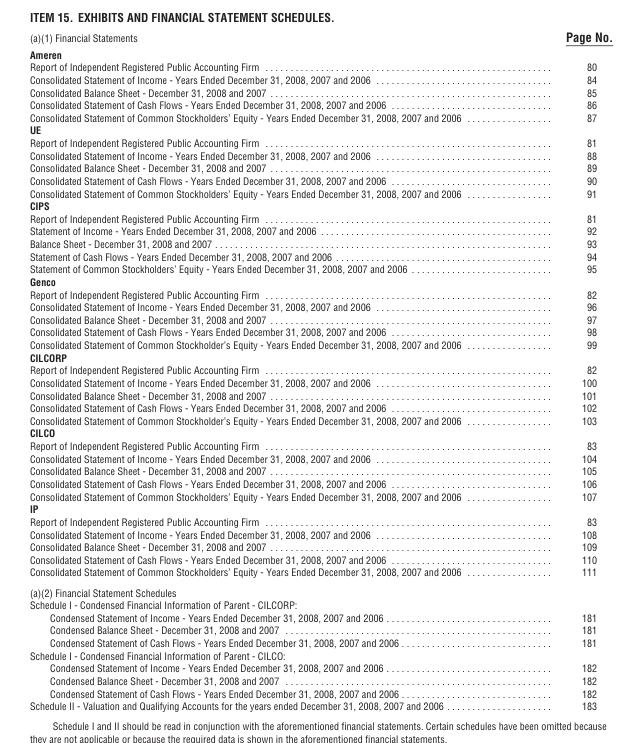table: (28, 28, 612, 711)
table column: (28, 28, 512, 711), (512, 28, 612, 711)
table column header: (28, 28, 612, 46)
table projected row header: (28, 581, 612, 598), (28, 46, 612, 60), (28, 123, 612, 136), (28, 274, 612, 287), (28, 350, 612, 363), (28, 426, 612, 439), (28, 648, 612, 661), (28, 199, 612, 211), (28, 502, 612, 514), (28, 598, 612, 610)
table row: (28, 28, 612, 46), (28, 581, 612, 598), (28, 565, 612, 581), (28, 46, 612, 60), (28, 72, 612, 85), (28, 85, 612, 98), (28, 110, 612, 123), (28, 123, 612, 136), (28, 148, 612, 161), (28, 173, 612, 186), (28, 186, 612, 199), (28, 211, 612, 224), (28, 224, 612, 237), (28, 249, 612, 262), (28, 274, 612, 287), (28, 287, 612, 300), (28, 312, 612, 325), (28, 325, 612, 338), (28, 350, 612, 363), (28, 375, 612, 388), (28, 388, 612, 401), (28, 413, 612, 426), (28, 426, 612, 439), (28, 451, 612, 464), (28, 476, 612, 489), (28, 489, 612, 502), (28, 514, 612, 527), (28, 527, 612, 540), (28, 552, 612, 565), (28, 610, 612, 623), (28, 623, 612, 636), (28, 648, 612, 661), (28, 673, 612, 686), (28, 686, 612, 699), (28, 60, 612, 72), (28, 98, 612, 110), (28, 136, 612, 148), (28, 161, 612, 173), (28, 199, 612, 211), (28, 237, 612, 249), (28, 262, 612, 274), (28, 300, 612, 312), (28, 338, 612, 350), (28, 363, 612, 375), (28, 401, 612, 413), (28, 439, 612, 451), (28, 464, 612, 476), (28, 502, 612, 514), (28, 540, 612, 552), (28, 598, 612, 610), (28, 636, 612, 648), (28, 661, 612, 673), (28, 699, 612, 711)
